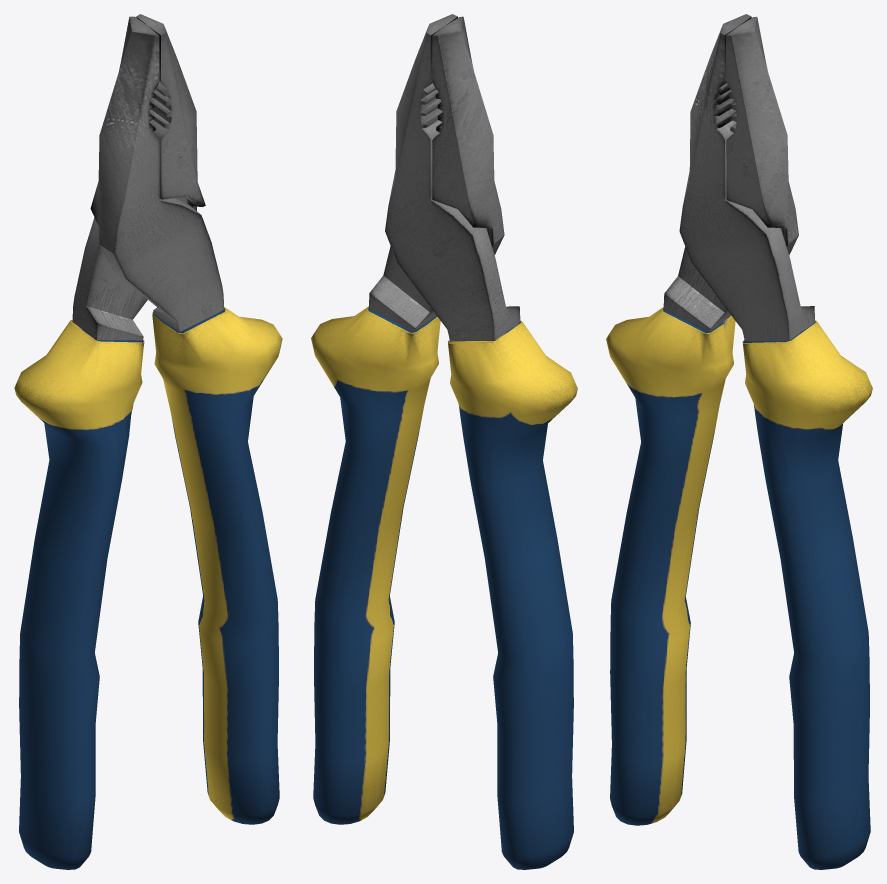
Rendered from Pliers01_1.FBX.
3 renders of one model, left to right at view 1: azimuth 30°, elevation 25°; view 2: azimuth 150°, elevation 25°; view 3: azimuth 330°, elevation 25°, orthographic.
Visible parts, largest first — view 1: Pliers01_1_LOD0; view 2: Pliers01_1_LOD0; view 3: Pliers01_1_LOD0.
Boxes of the visible parts, x1,y1,x2,y2 form: Pliers01_1_LOD0: [14, 14, 282, 869]; Pliers01_1_LOD0: [311, 14, 577, 869]; Pliers01_1_LOD0: [606, 14, 872, 869].
Size of what is drawn, in the model's own units: 5.24 by 15.83 by 1.69.
